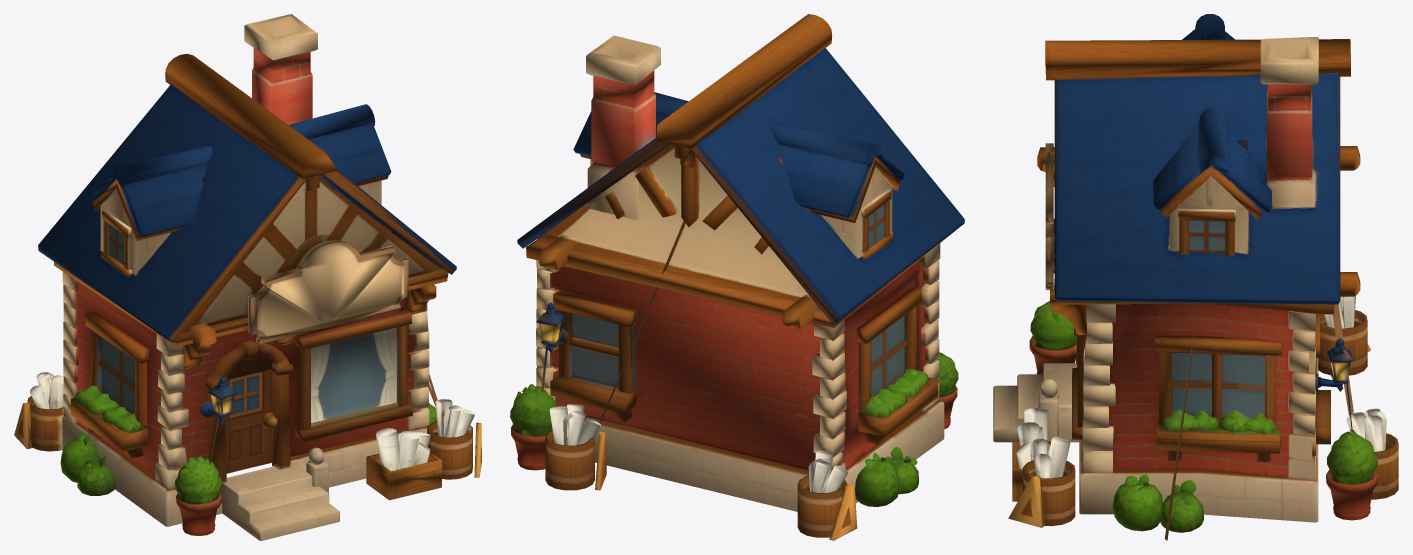
3 views of the same model, side by side, from view 1: azimuth 30°, elevation 25°; view 2: azimuth 150°, elevation 25°; view 3: azimuth 270°, elevation 25° (orthographic). The views are drawn at different scales.
Parts seen in each view (by area): view 1: shop-architect; view 2: shop-architect; view 3: shop-architect.
Boxes of the visible parts, <box> form: shop-architect: <box>14,14,481,540</box>; shop-architect: <box>510,14,964,540</box>; shop-architect: <box>993,14,1398,540</box>.
Size of the model in its own units: 7.6 by 8.03 by 6.78.
1 material, 1 textured.
